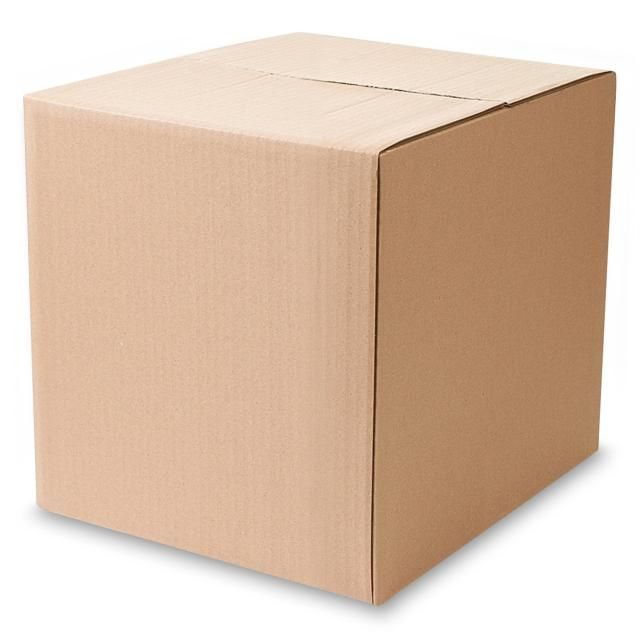cardboard_box: (12, 5, 629, 616)
